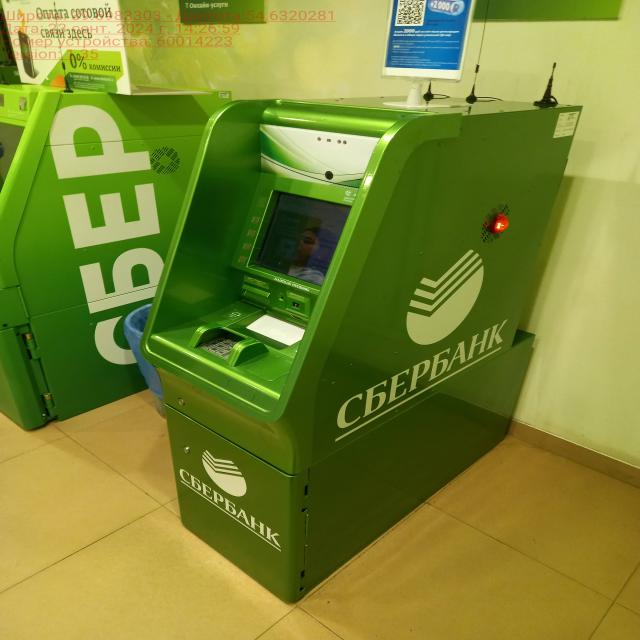bank: (145, 90, 578, 609), (0, 78, 229, 429)
